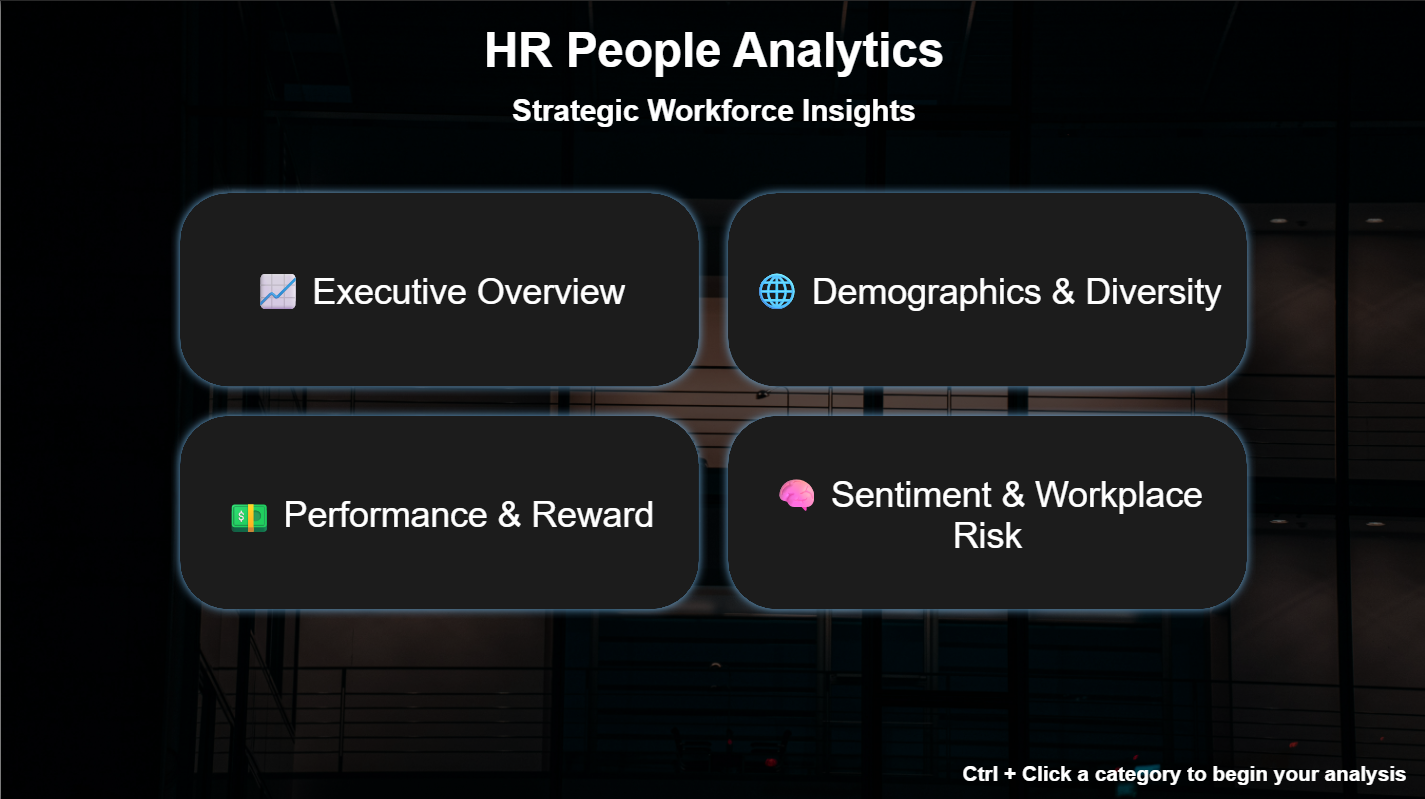

What the dashboard file says about the page in this screenshot:
{"tool":"powerbi","page":{"name":"🏠 Home Page","canvas":[1280,720],"ordinal":0},"visuals":[{"type":"pageNavigator","box":[155.6,172.8,968.8,374.5],"z":0},{"type":"textbox","box":[-0.4,0,1280.4,88.9],"z":1000}]}

Visuals, with their boxes in screenshot pixels (x1, y1, x2, y2), scaled from the page's 1280x720 canvas onto the 1425x799 screenshot:
pageNavigator: <bbox>173, 192, 1252, 607</bbox>
textbox: <bbox>0, 0, 1424, 99</bbox>
